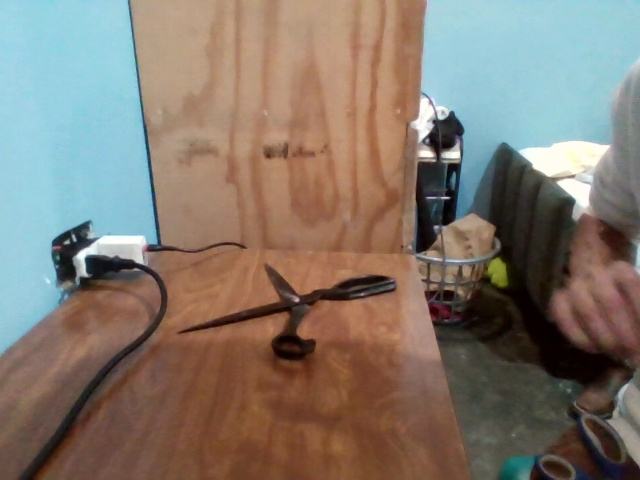tijeras: (176, 261, 398, 362)
